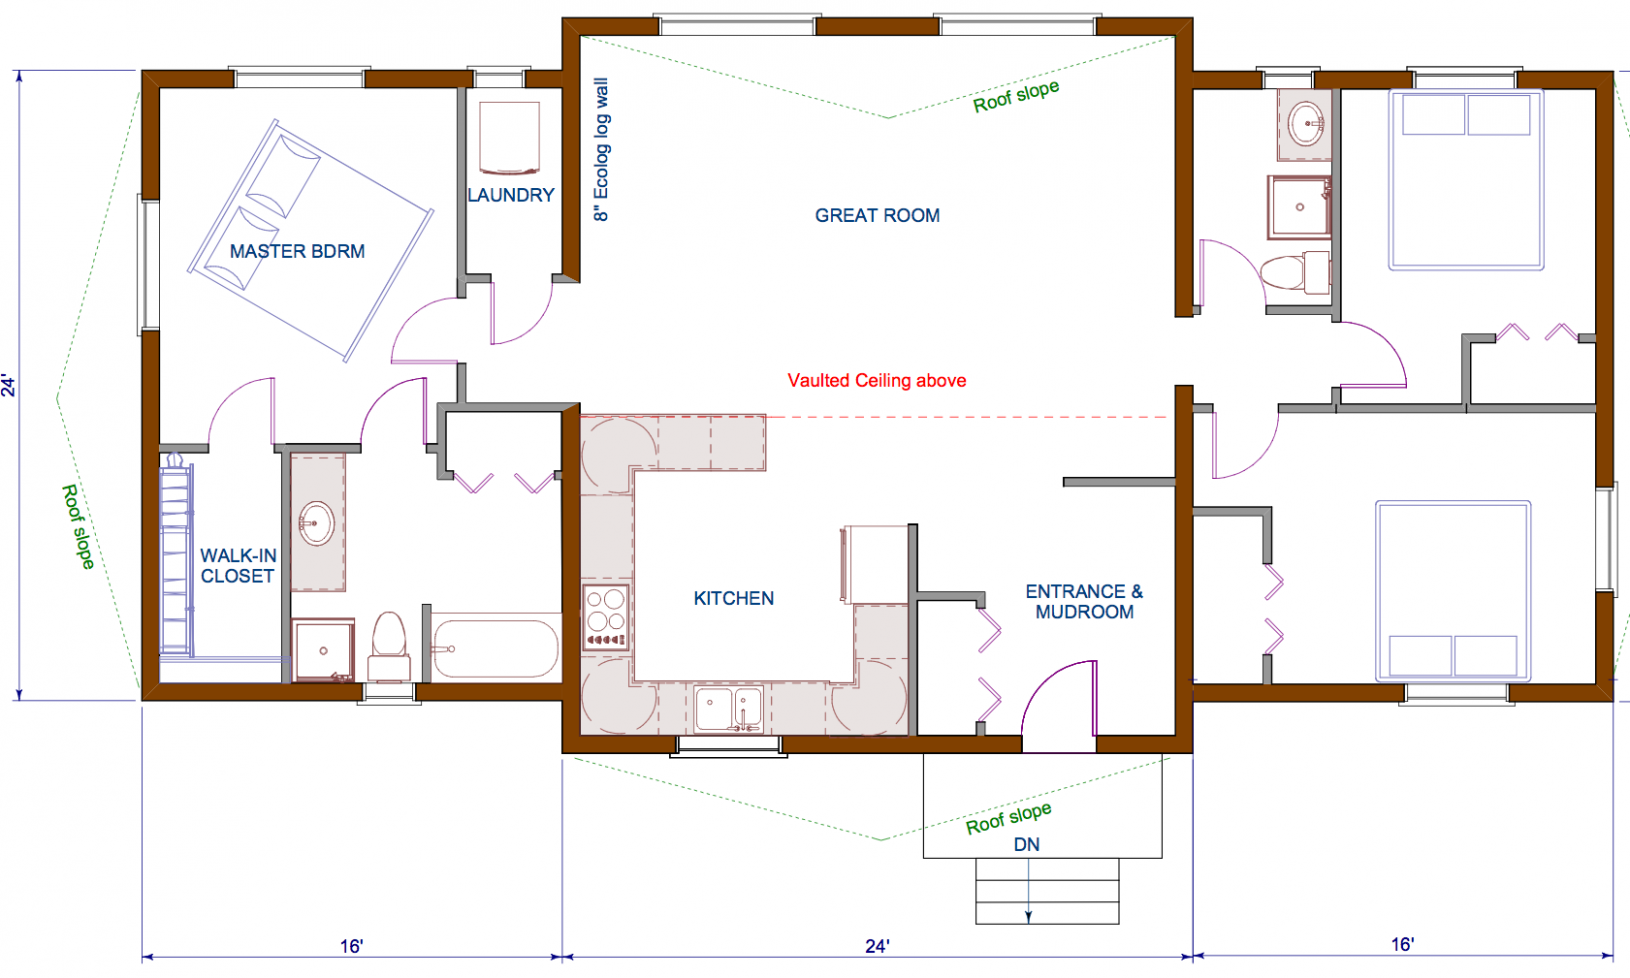bathroom: (281, 396, 579, 701)
door: (200, 373, 279, 432)
room: (561, 19, 1188, 329), (1181, 68, 1609, 416), (1186, 409, 1617, 709), (564, 406, 915, 761), (140, 73, 466, 411), (909, 406, 1197, 747)
